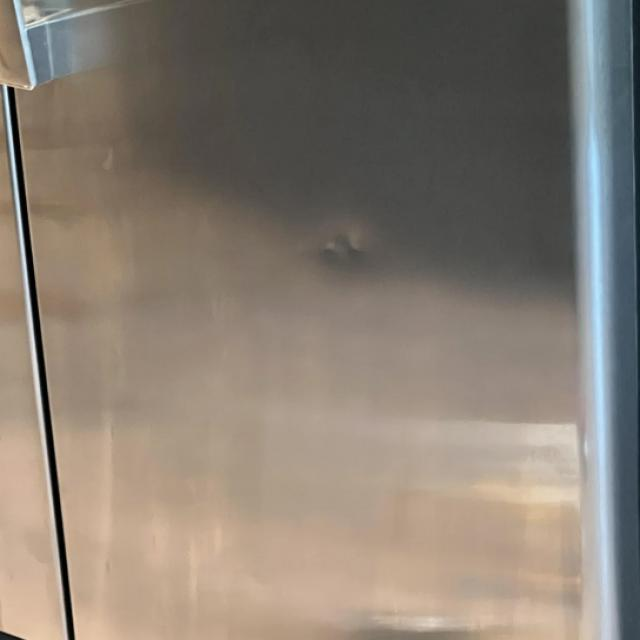dents: (271, 201, 417, 301)
